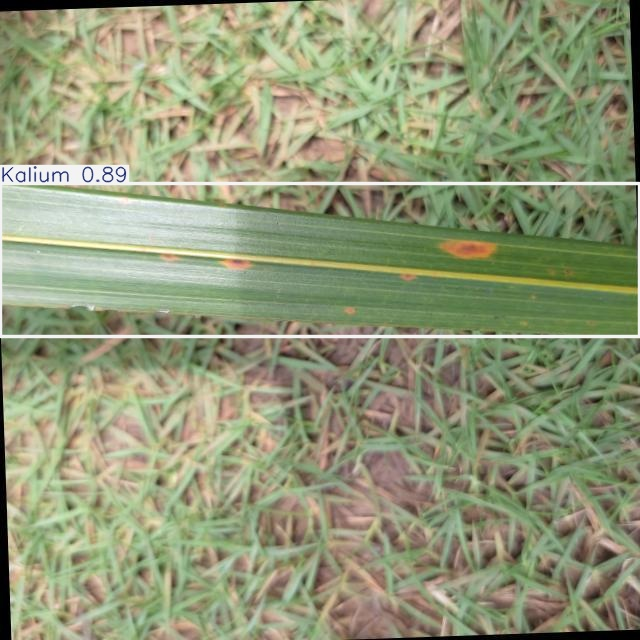Kalium: (0, 184, 639, 336)
